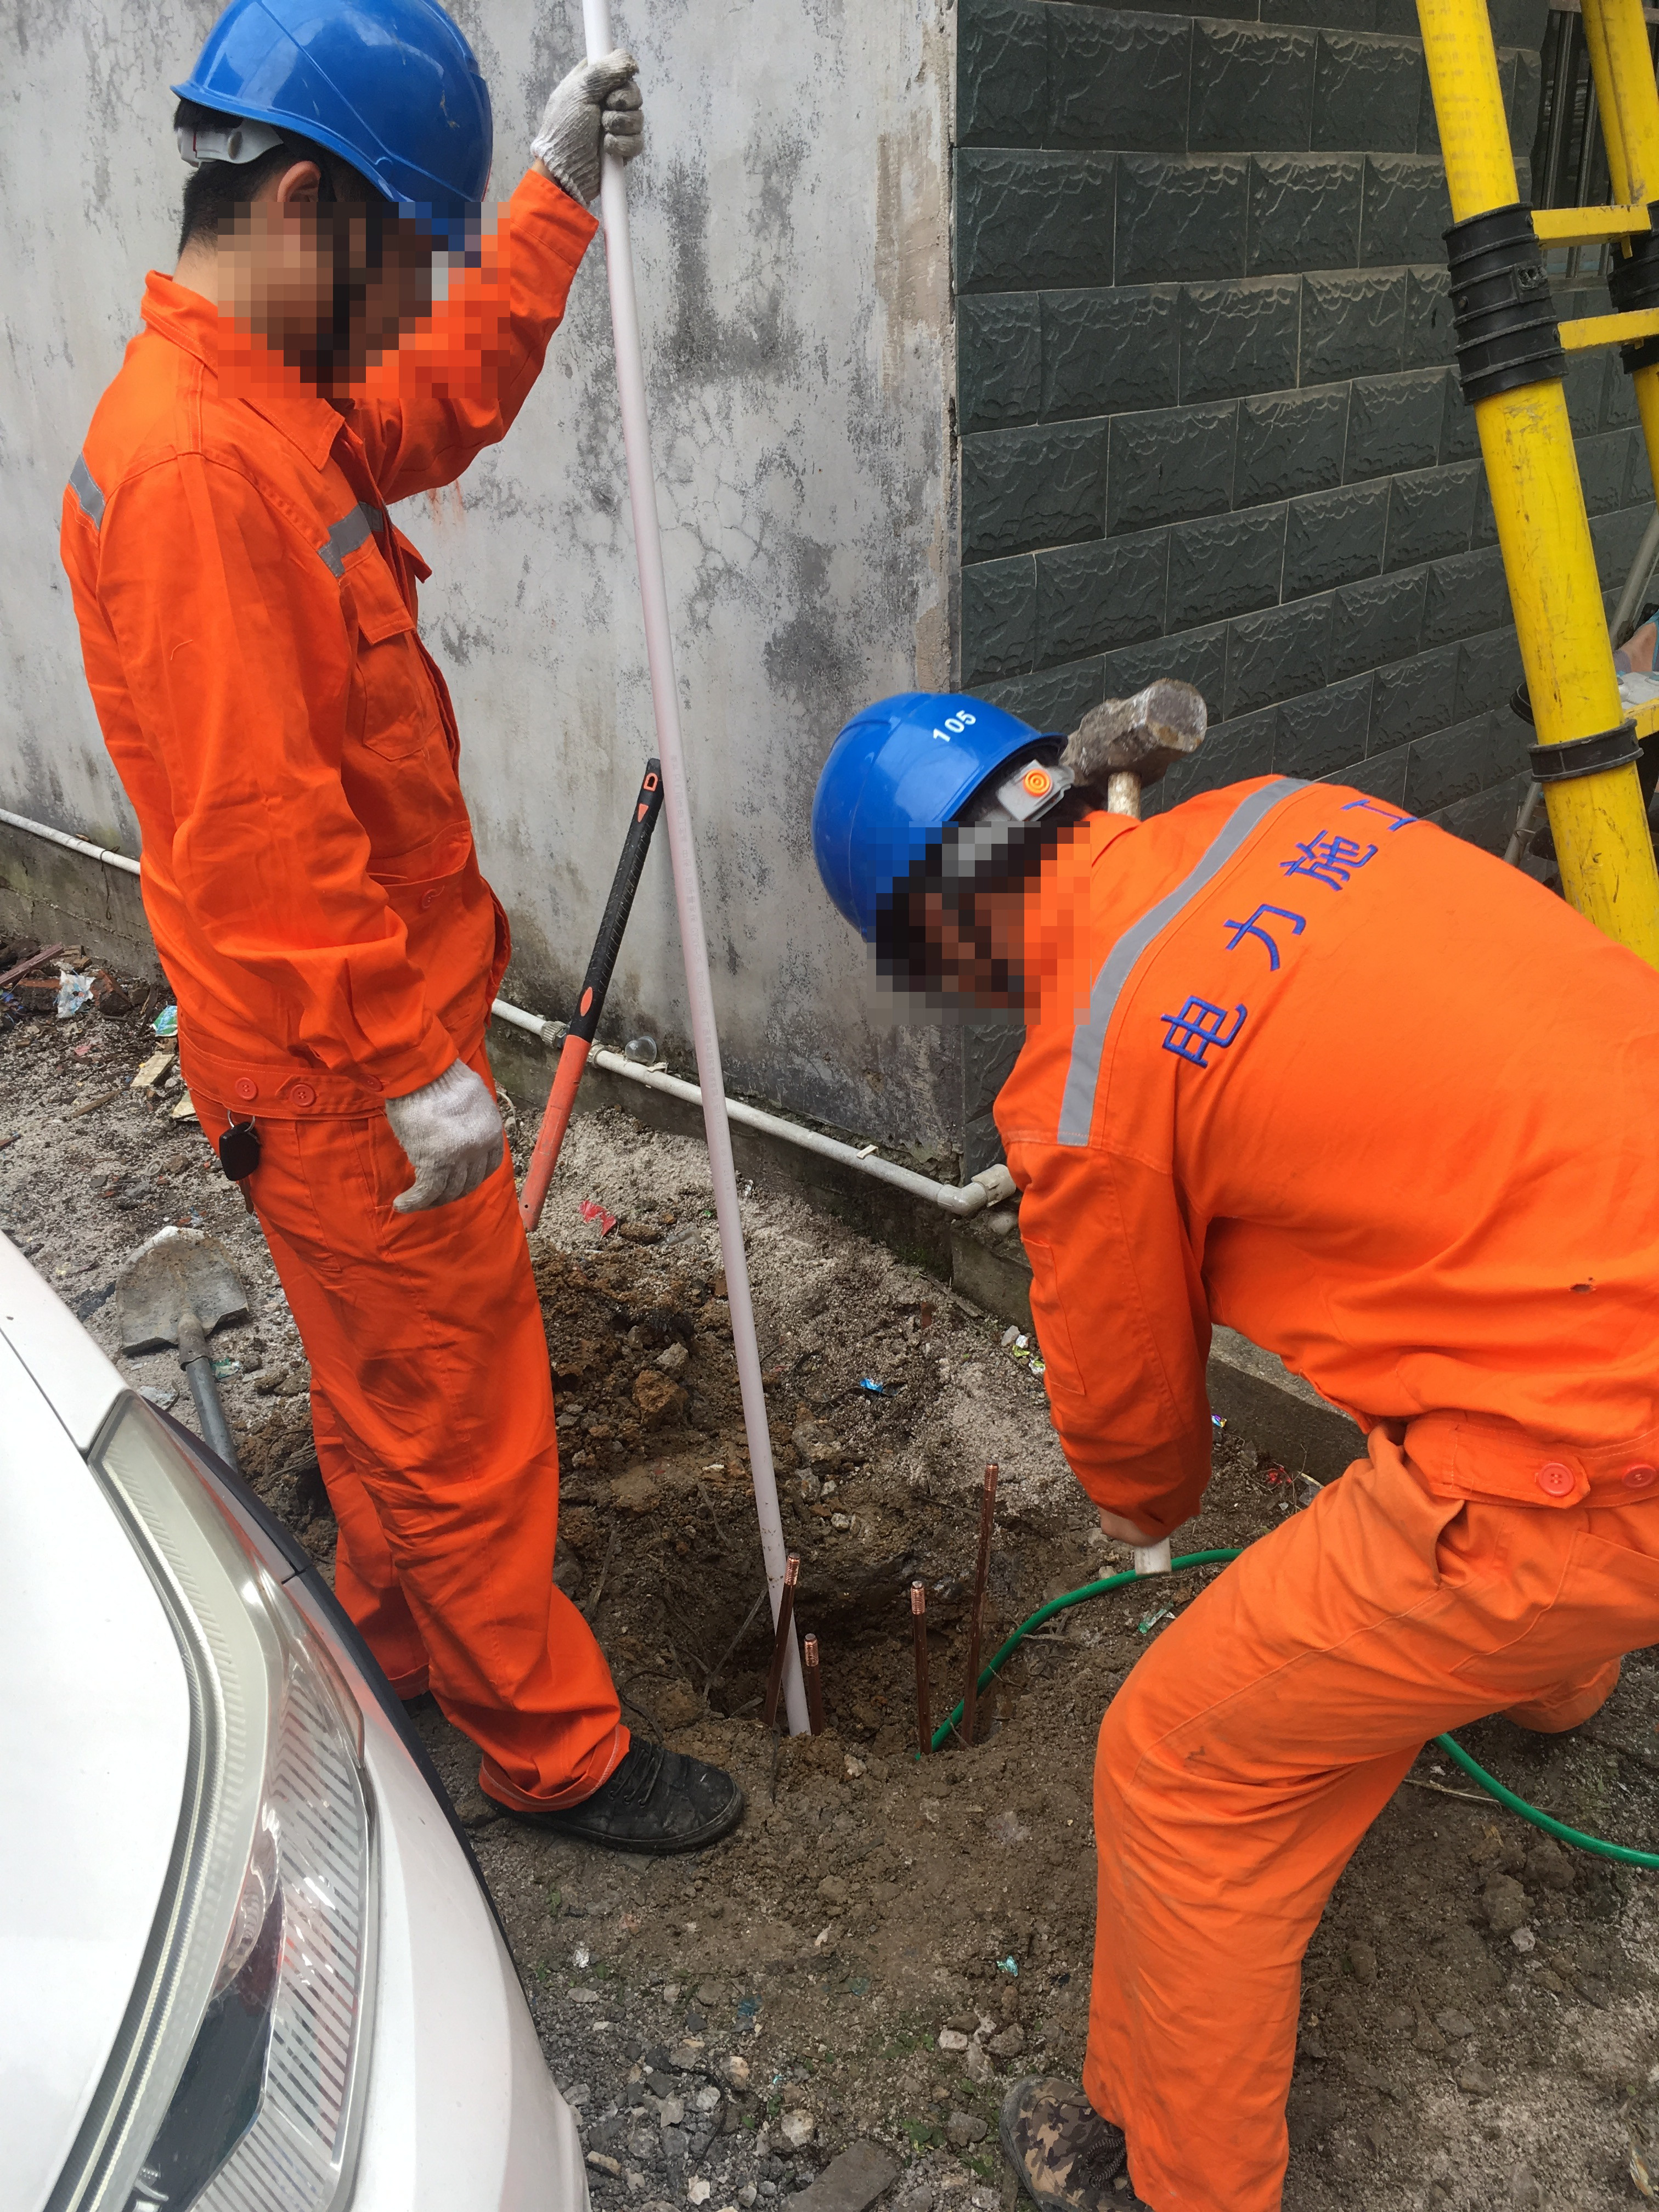halt: (157, 1, 509, 367), (794, 678, 1097, 1017)
inear: (901, 866, 1007, 985)
outear: (275, 151, 396, 370)
person: (808, 685, 1651, 2212), (41, 1, 712, 1842)
wglove: (401, 1063, 506, 1214), (536, 56, 644, 196)
ydownsuit: (216, 1115, 618, 1787)
ydownsuitt: (1098, 1520, 1585, 2201)
yupsuit: (1007, 747, 1659, 1515), (47, 256, 528, 1121)
